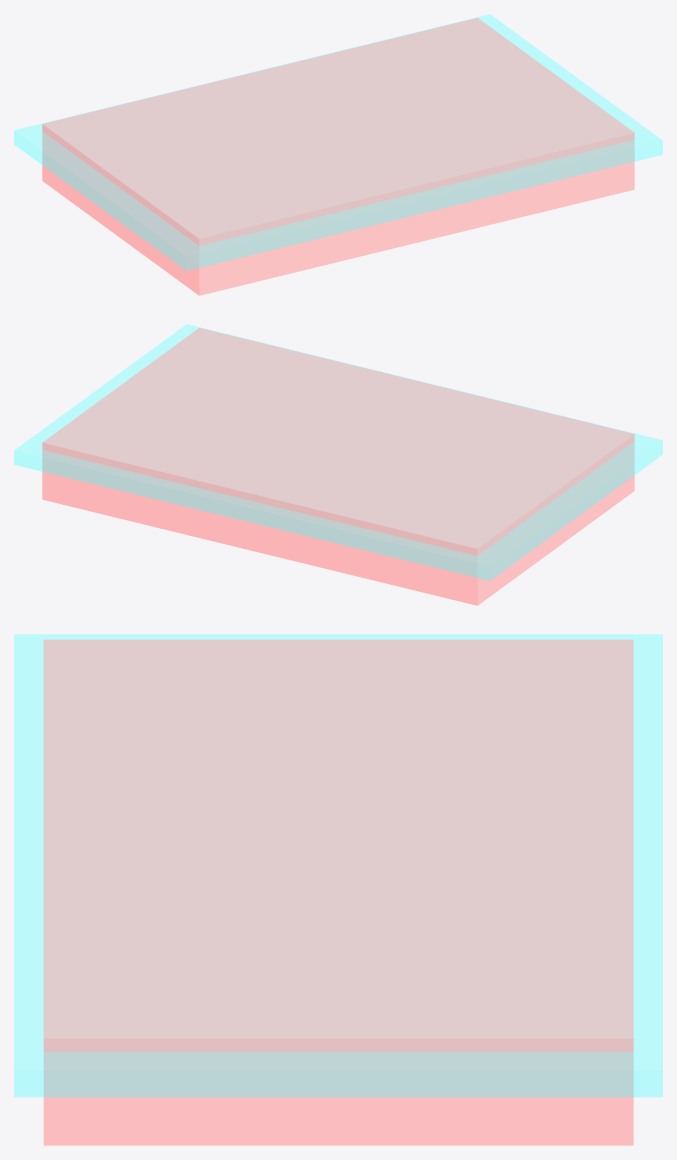
The model's file is blast_rectangle.glb.
3 renders of one model, top to bottom at view 1: azimuth 30°, elevation 25°; view 2: azimuth 150°, elevation 25°; view 3: azimuth 270°, elevation 25°, orthographic. The views are drawn at different scales.
Bounding box in the file's own units: 1.75 × 0.2 × 1.1.
